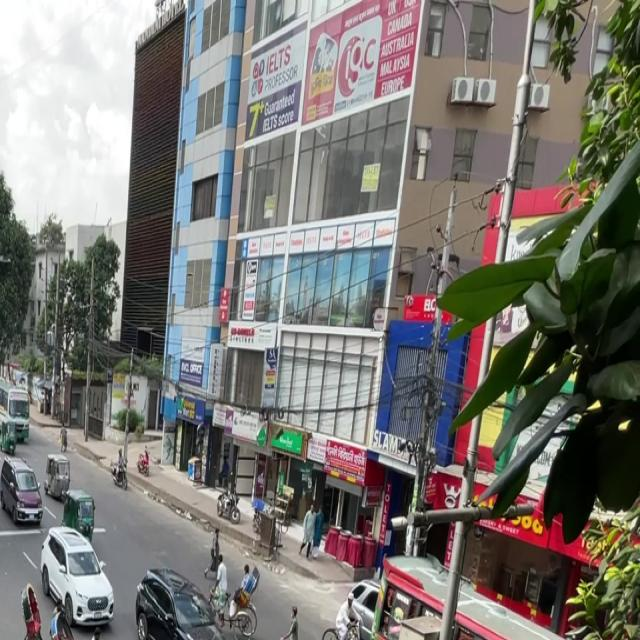car: (37, 522, 116, 630), (129, 564, 239, 640), (0, 456, 45, 530)
motorbike: (204, 526, 230, 582), (215, 484, 241, 528), (111, 448, 131, 491), (135, 438, 154, 478)
rickshaw: (63, 482, 100, 539)
